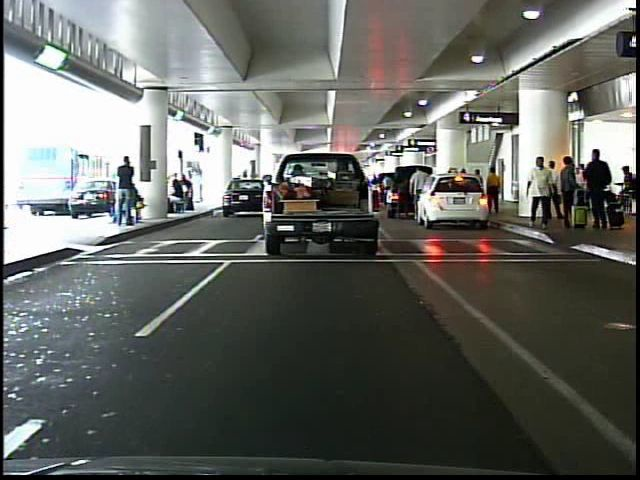person: (522, 152, 556, 236), (585, 145, 613, 233), (558, 152, 580, 228), (118, 157, 139, 231), (409, 162, 433, 224), (487, 165, 505, 216), (617, 160, 638, 195)
